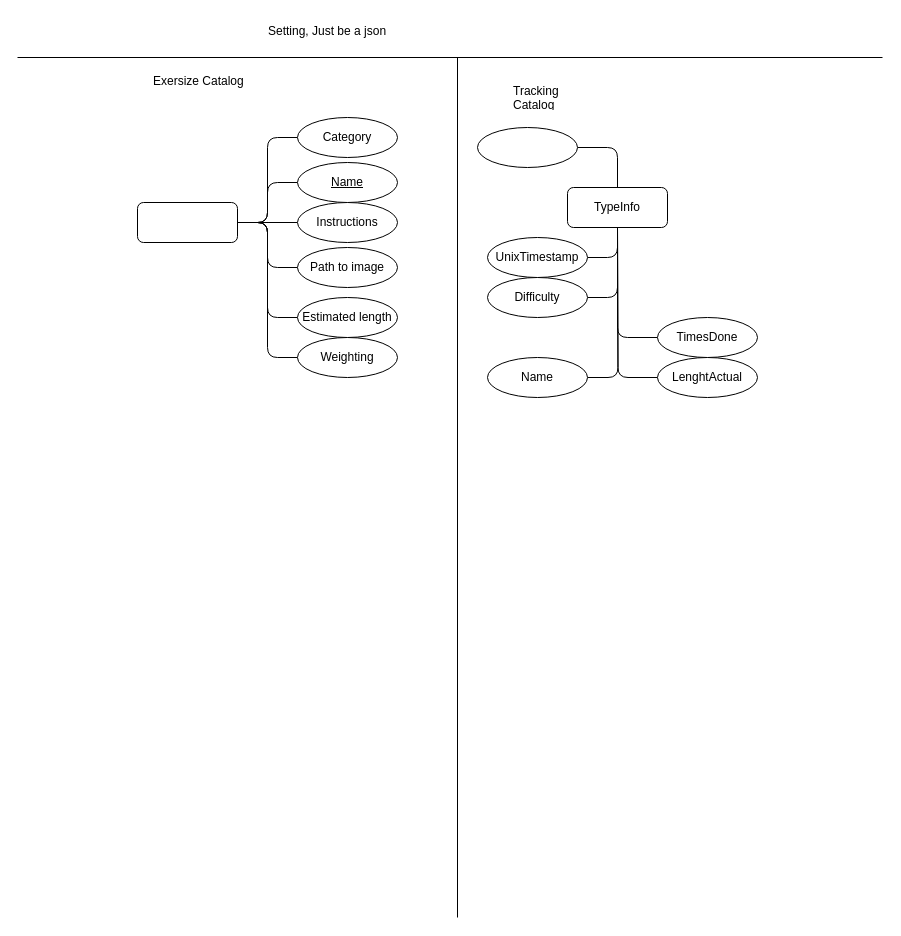
This 901x936 diagram has some shape labels left out. Each missing label, with the centre of its shape:
Exersize item: the point at 187,222
IndexNum: the point at 527,147
